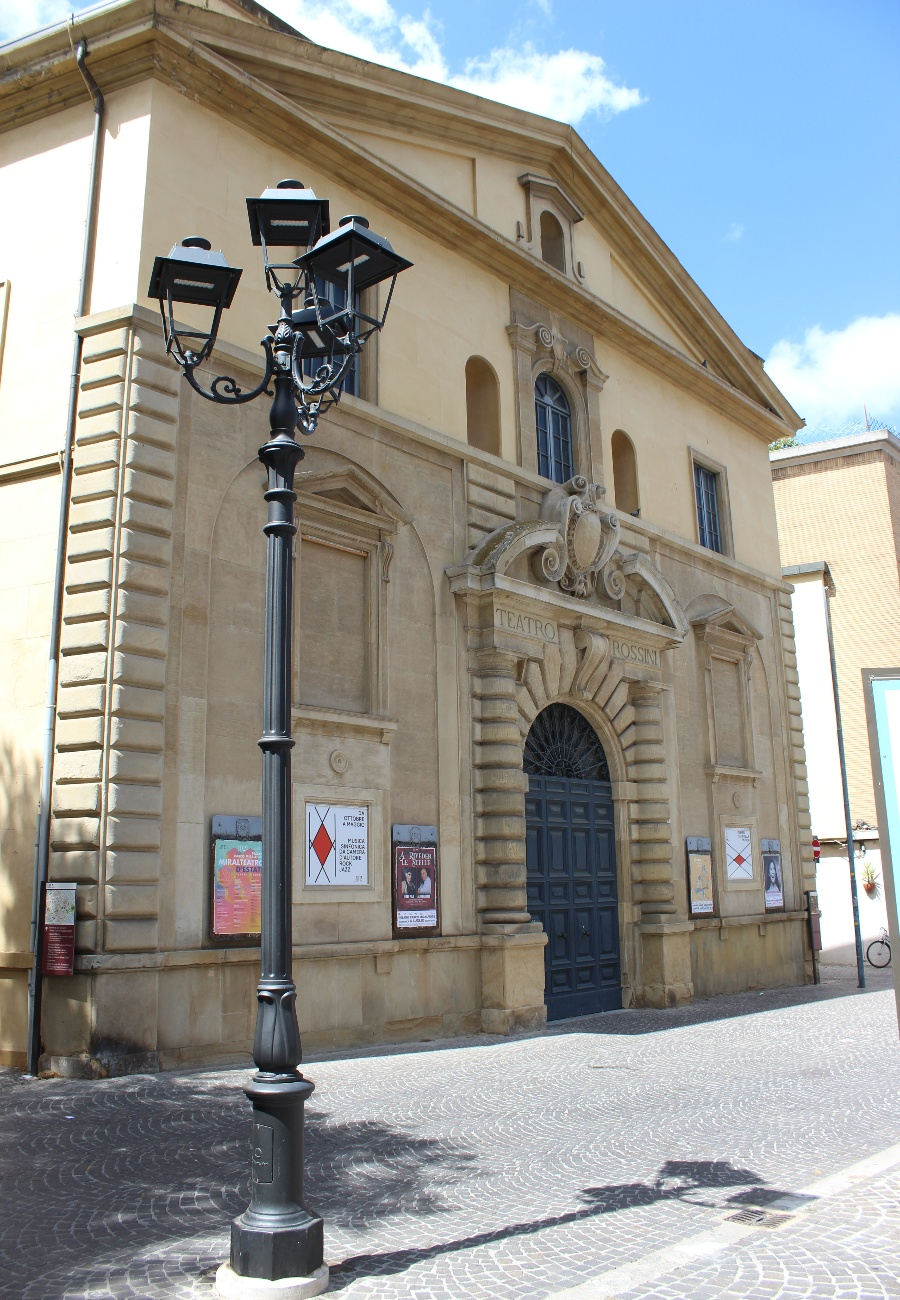Teatro Rossini: (87, 1, 810, 1080)
